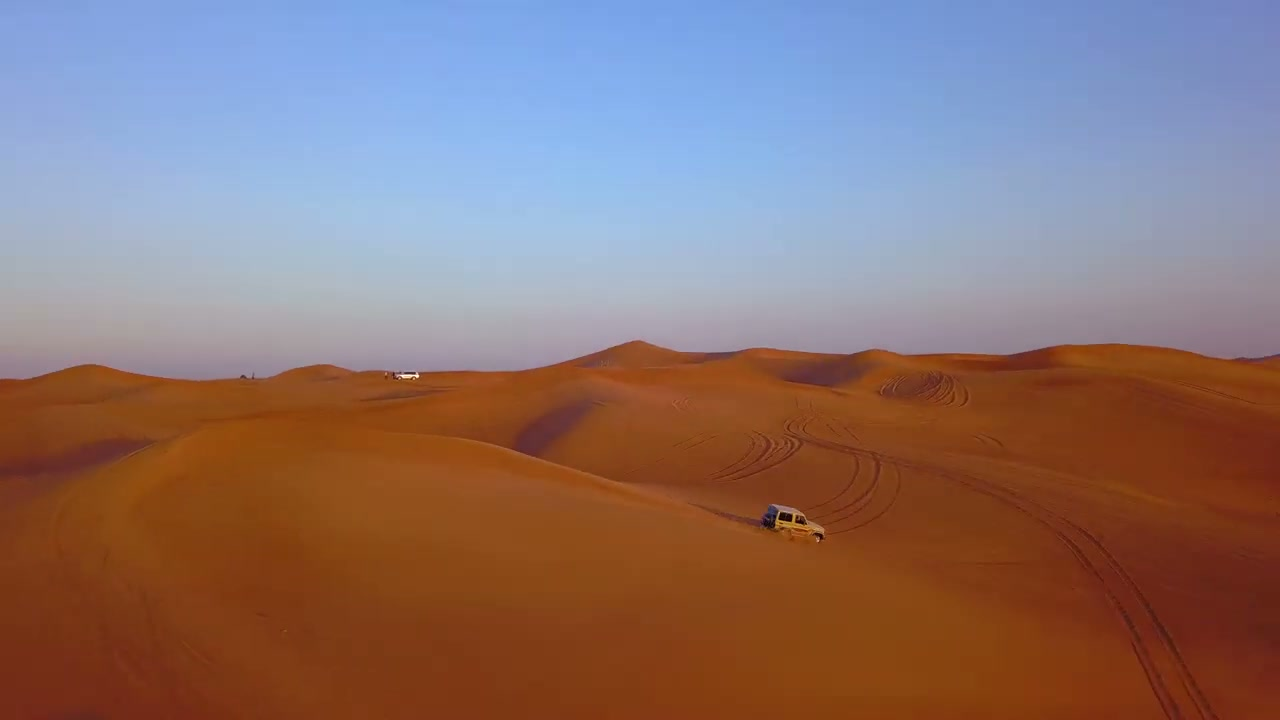vehicle_track: (802, 436, 1216, 719), (935, 469, 1217, 719), (784, 418, 899, 534), (704, 431, 801, 481), (616, 432, 719, 478), (1162, 378, 1279, 406), (879, 371, 969, 406), (972, 433, 1004, 449)
